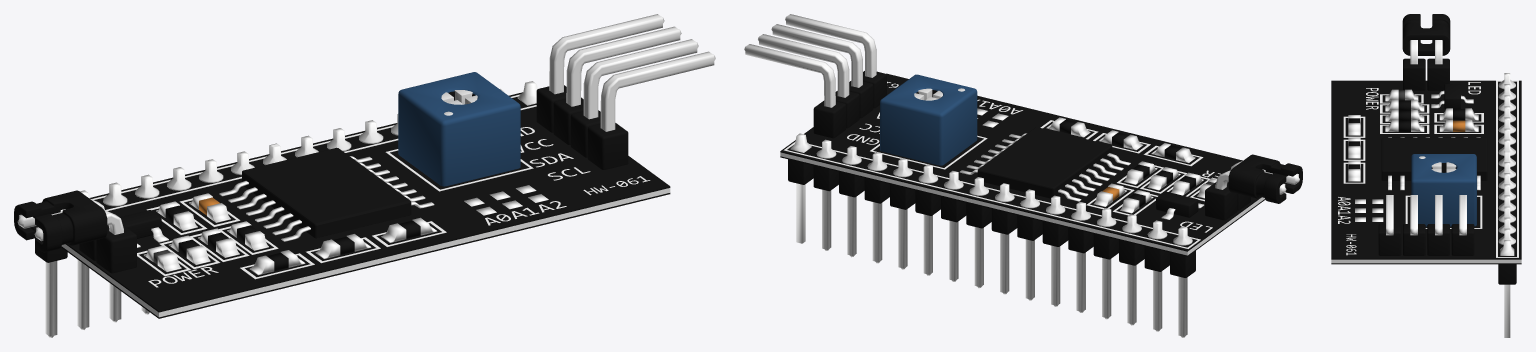
The model's file is I2C driver.fbx.
The picture shows the model from 3 angles, left to right: view 1: azimuth 30°, elevation 25°; view 2: azimuth 150°, elevation 25°; view 3: azimuth 270°, elevation 25°; orthographic projection. The views are drawn at different scales.
Parts seen in each view (by area): view 1: Plane, pins.002, Cube, sisa2.002, IO pins.001, pins.003, sisa2.001; view 2: Plane, IO pins.001, pins.002, Cube, sisa2.002, pins.003, sisa2.001; view 3: Plane, Cube, pins.002, pins.003, IO pins.001, sisa2.002, sisa2.001.
Part boxes in pixels (x1,y1,x2,y2): Plane: (61,92,670,318); pins.002: (536,14,715,169); Cube: (398,72,520,186); sisa2.002: (219,147,434,241); IO pins.001: (35,81,537,337); pins.003: (14,190,136,273); sisa2.001: (120,210,168,247); Plane: (780,73,1265,256); IO pins.001: (788,133,1195,337); pins.002: (744,14,886,138); Cube: (880,74,977,165); sisa2.002: (959,127,1130,201); pins.003: (1205,154,1302,220); sisa2.001: (1156,191,1204,219); Plane: (1331,80,1521,264); Cube: (1411,154,1476,226); pins.002: (1378,195,1474,255); pins.003: (1402,14,1450,90); IO pins.001: (1498,73,1516,337); sisa2.002: (1381,137,1487,190); sisa2.001: (1431,84,1473,108).
Size of the model in its own units: 17.9 by 5.25 by 6.25.
